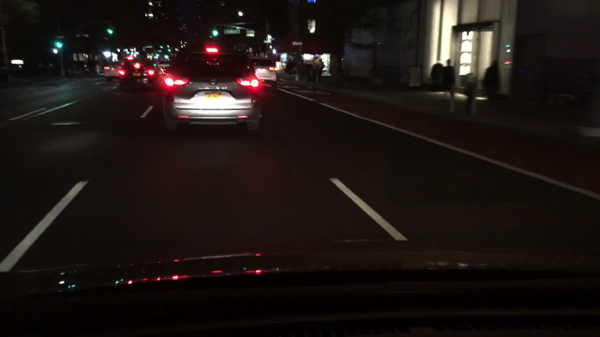car: (162, 48, 262, 132), (118, 59, 158, 88), (250, 56, 278, 91), (104, 62, 121, 81), (158, 60, 169, 76)
person: (483, 61, 501, 103), (440, 59, 455, 101), (367, 58, 382, 89), (431, 60, 443, 94), (284, 59, 292, 79), (317, 59, 324, 80)
traffic light: (56, 39, 62, 48), (107, 25, 112, 34), (270, 49, 277, 54), (52, 49, 58, 54), (213, 28, 216, 36)
traffic sign: (292, 41, 303, 46), (223, 30, 240, 33), (247, 30, 254, 37), (264, 39, 272, 44), (55, 35, 65, 39), (76, 34, 88, 37)
